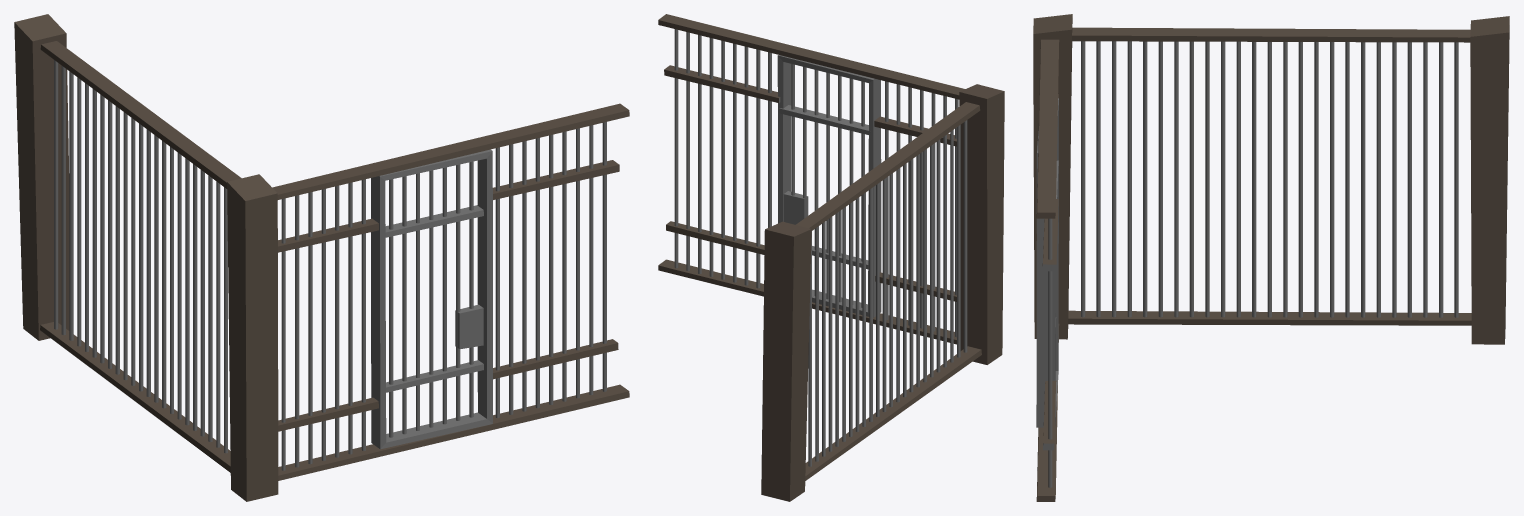
File: prigione02.fbx
The picture shows the model from 3 angles, left to right: view 1: azimuth 30°, elevation 25°; view 2: azimuth 150°, elevation 25°; view 3: azimuth 270°, elevation 25°; orthographic projection. The views are drawn at different scales.
Parts seen in each view (by area): view 1: MSH_prigione, MSH_prigione_porta; view 2: MSH_prigione, MSH_prigione_porta; view 3: MSH_prigione, MSH_prigione_porta.
Part boxes in pixels (x1,y1,x2,y2): MSH_prigione: [14, 14, 629, 501]; MSH_prigione_porta: [371, 149, 492, 449]; MSH_prigione: [658, 14, 1004, 501]; MSH_prigione_porta: [777, 55, 881, 317]; MSH_prigione: [1033, 14, 1509, 501]; MSH_prigione_porta: [1036, 98, 1058, 427].
Size of the model in its own units: 57.52 by 43.72 by 61.07.
